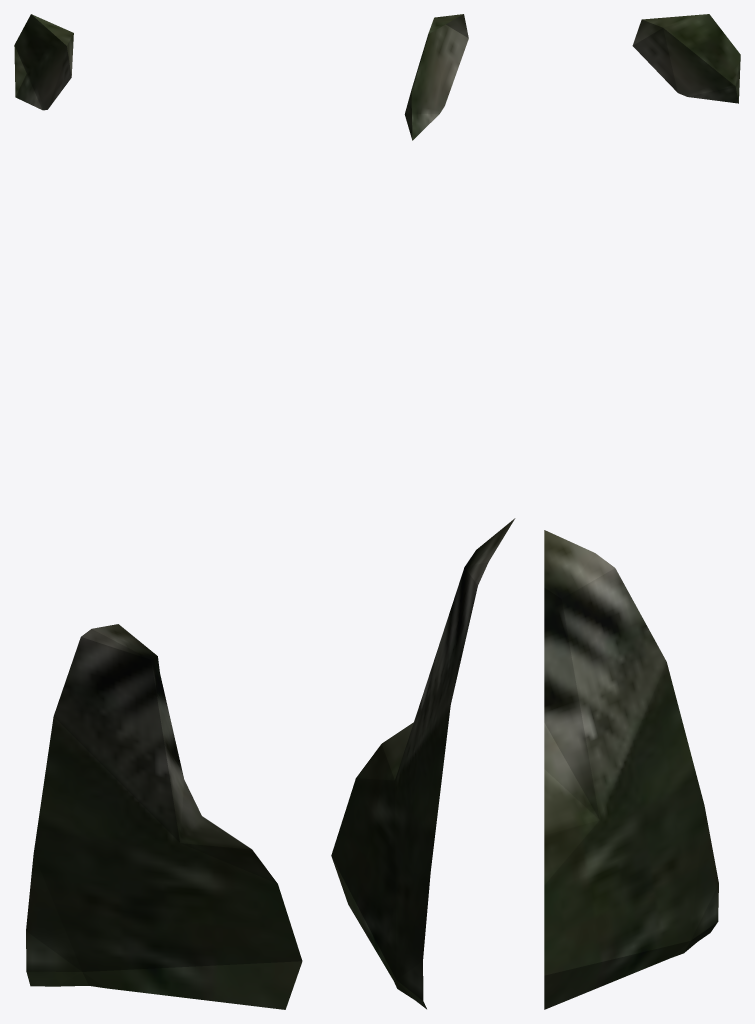
The picture shows the model from 3 angles, left to right: view 1: azimuth 30°, elevation 25°; view 2: azimuth 150°, elevation 25°; view 3: azimuth 270°, elevation 25°; orthographic projection. The views are drawn at different scales.
Size of the model in its own units: 0.116 by 0.586 by 0.1136.
1 material, 1 textured.
